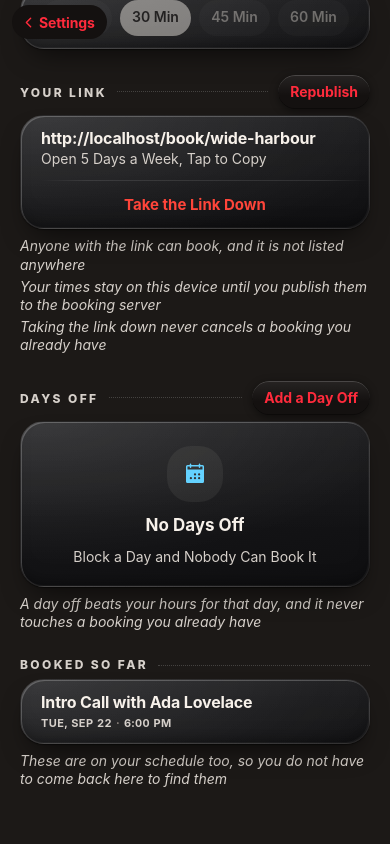
Test: BookingPage › keeps the sheet open and says so when the cancel itself failed
(page scrolled)
Click the text "Intro Call with Ada Lovelace". click: [147, 702]
box: [41,692,252,712]
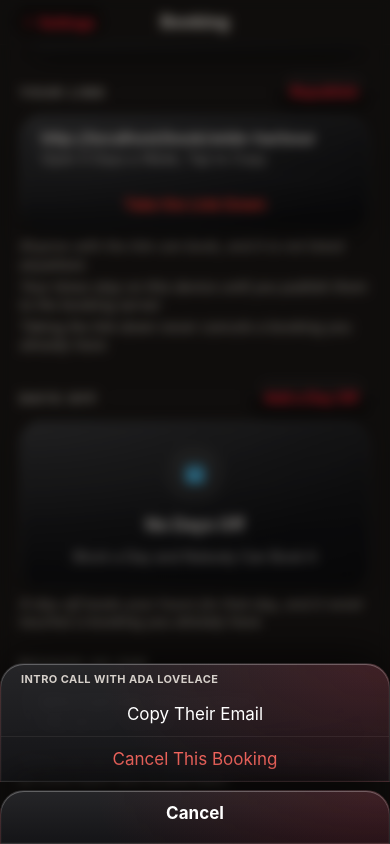
Click the button "Cancel This Booking". click: [195, 758]
box: [1,736,389,781]
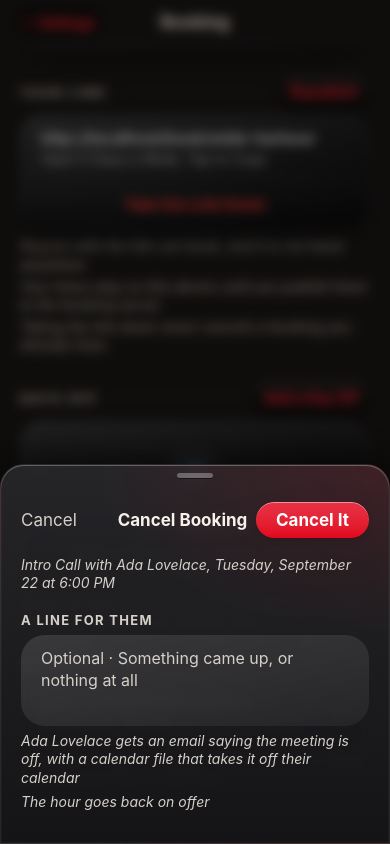
Click the button "Cancel It". click: [312, 520]
box: [256,502,369,538]
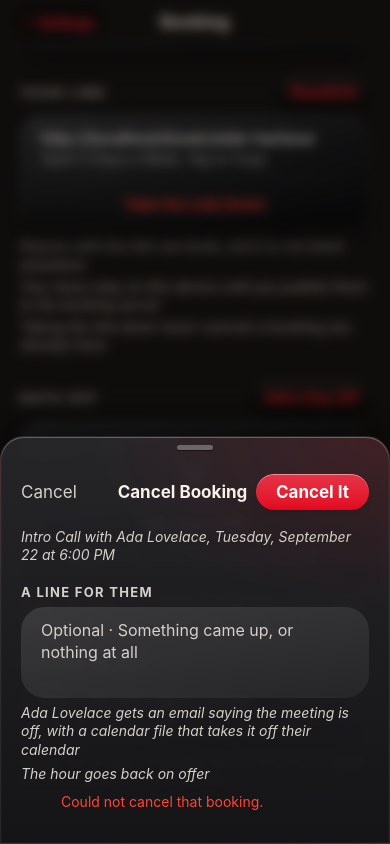
Expected: the button "Cancel It" is shown, [256,474,369,510]
Expected: the text "Could not cancel that booking." is shown, [61,793,263,810]
